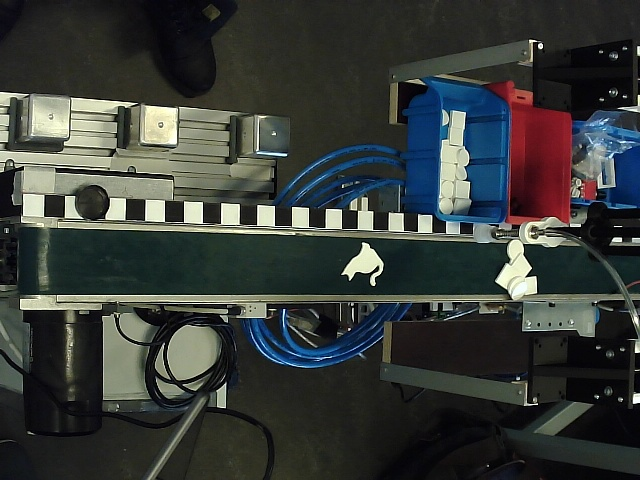cat: (341, 242, 385, 288)
